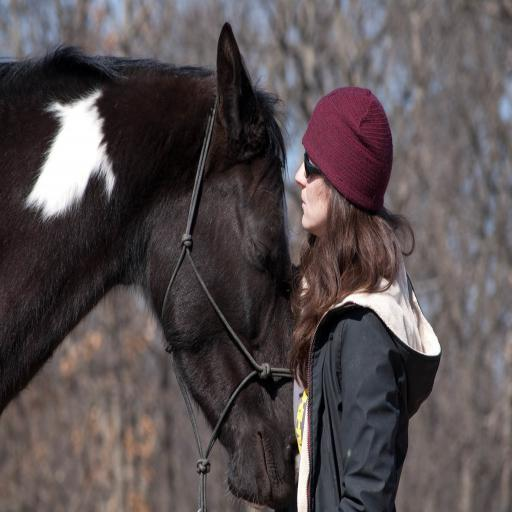horse: (0, 20, 301, 512)
